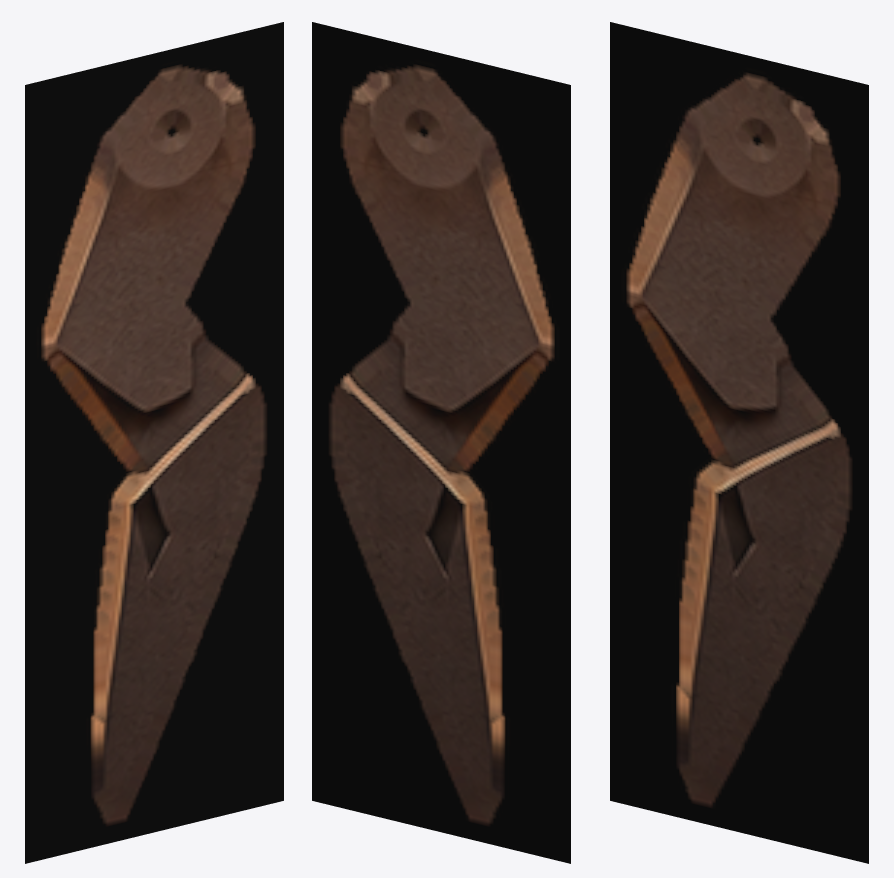
File: Variant05Lower.glb
The picture shows the model from 3 angles, left to right: view 1: azimuth 30°, elevation 25°; view 2: azimuth 150°, elevation 25°; view 3: azimuth 330°, elevation 25°; orthographic projection.
Visible parts, largest first — view 1: PaperVolume; view 2: PaperVolume; view 3: PaperVolume.
Part boxes in pixels (bbox=[...]): PaperVolume: bbox=[25, 22, 283, 863]; PaperVolume: bbox=[312, 22, 570, 863]; PaperVolume: bbox=[610, 22, 868, 863].
Bounding box in the file's own units: 1.11 × 3.19 × 0.08.
Materials: 3 (2 with a texture image).
